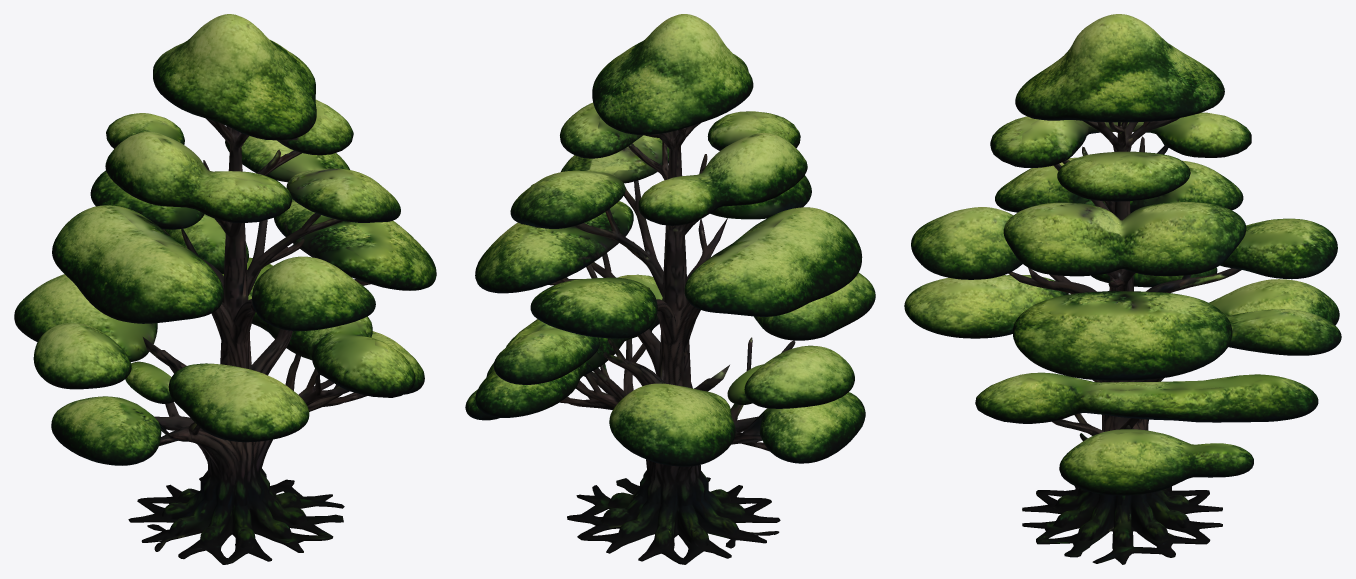
File: tree2.glb
3 renders of one model, left to right at view 1: azimuth 30°, elevation 25°; view 2: azimuth 150°, elevation 25°; view 3: azimuth 270°, elevation 25°, orthographic.
Parts seen in each view (by area): view 1: texture_pbr_v128; view 2: texture_pbr_v128; view 3: texture_pbr_v128.
Boxes of the visible parts, x1=… form: texture_pbr_v128: x1=14, y1=14, x2=436, y2=564; texture_pbr_v128: x1=465, y1=14, x2=875, y2=564; texture_pbr_v128: x1=904, y1=14, x2=1341, y2=564.
Bounding box in the file's own units: 1.67 × 2.23 × 1.77.
Materials: 1 (1 with a texture image).
